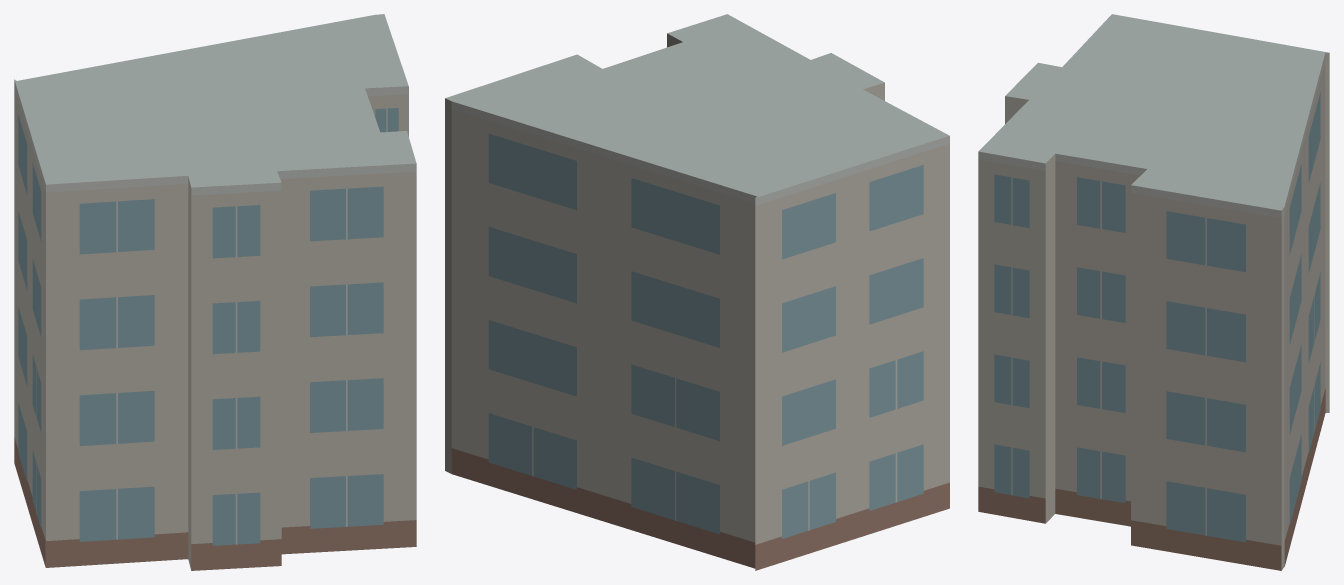
Rendered from survey-upis-32656483.glb.
3 renders of one model, left to right at view 1: azimuth 30°, elevation 25°; view 2: azimuth 150°, elevation 25°; view 3: azimuth 270°, elevation 25°, orthographic. The views are drawn at different scales.
Parts seen in each view (by area): view 1: survey-upis-32656483.tmp; view 2: survey-upis-32656483.tmp; view 3: survey-upis-32656483.tmp.
Part boxes in pixels (left/top/right/bottom): survey-upis-32656483.tmp: left=14, top=14, right=416, bottom=570; survey-upis-32656483.tmp: left=445, top=14, right=949, bottom=570; survey-upis-32656483.tmp: left=978, top=14, right=1329, bottom=570.
Bounding box in the file's own units: 13.71 × 11.7 × 10.35.
